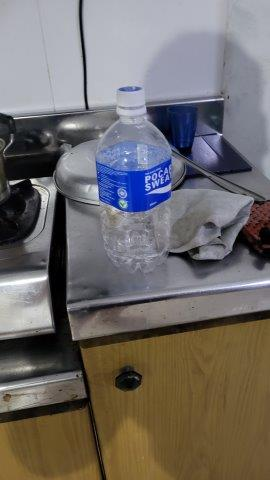botolplastik: (96, 85, 174, 271)
